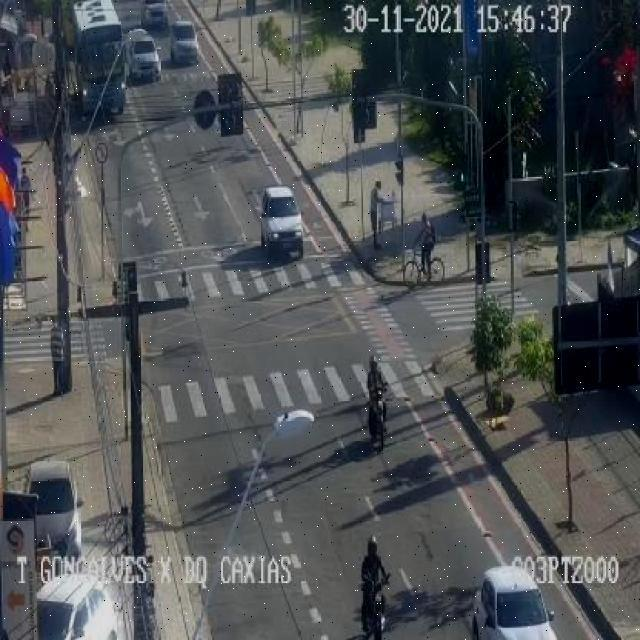Bus: (56, 0, 134, 122)
Car: (472, 566, 556, 638), (25, 461, 83, 560), (36, 573, 124, 638), (250, 179, 318, 260), (125, 28, 162, 82), (169, 20, 198, 65), (142, 0, 169, 31)
Cycle: (325, 524, 400, 632), (348, 358, 402, 454), (406, 201, 456, 294)
